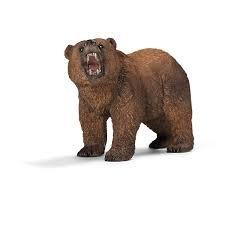bear: (63, 38, 195, 162)
